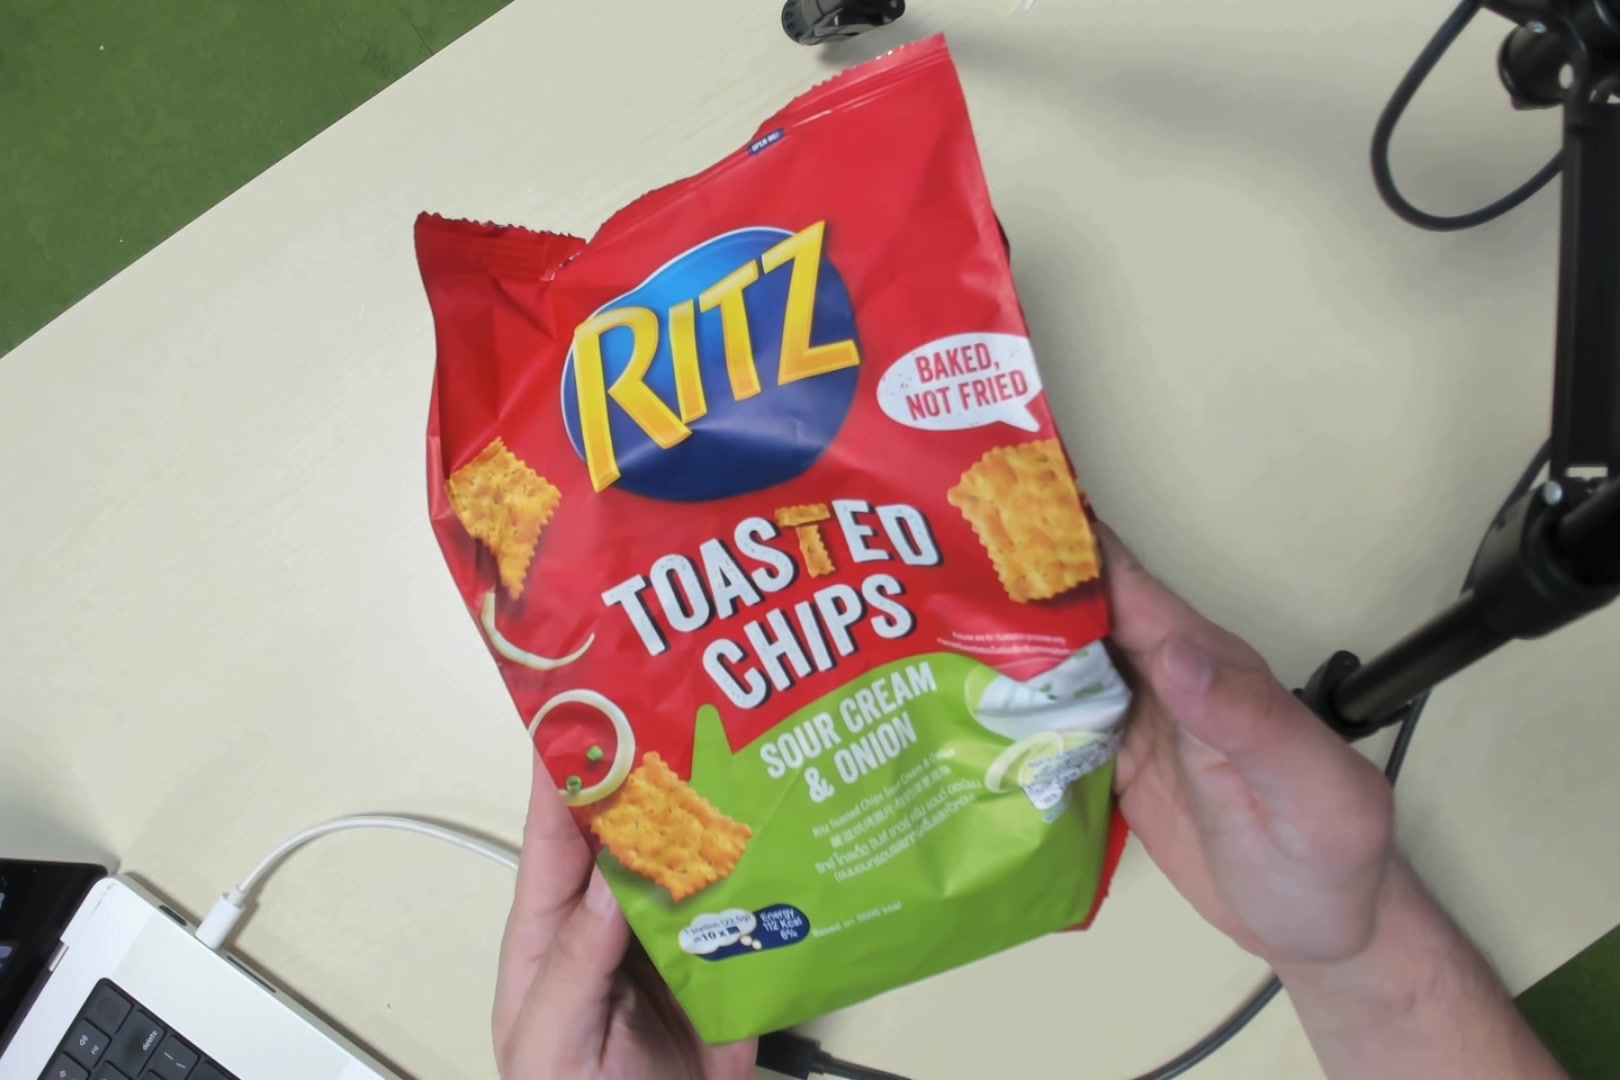BiscuitsCrackersCookies_200-299g_NonHalal_NonHealthy: (532, 147, 1079, 981)
